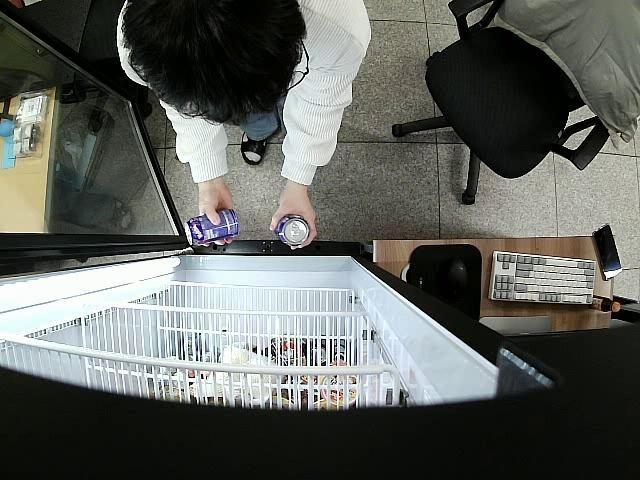14_welchsGrape: (184, 208, 238, 246), (275, 216, 310, 248)
